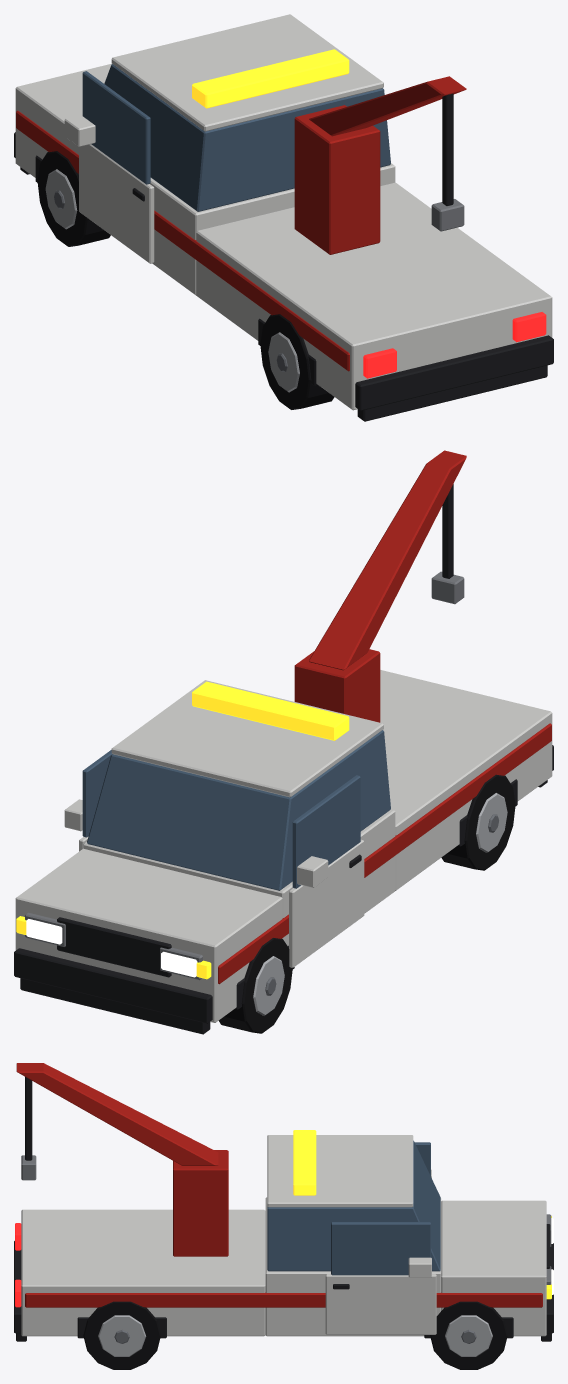
File: car_tow.glb
The picture shows the model from 3 angles, top to bottom: view 1: azimuth 30°, elevation 25°; view 2: azimuth 150°, elevation 25°; view 3: azimuth 270°, elevation 25°; orthographic projection. The views are drawn at different scales.
Parts seen in each view (by area): view 1: car_body, car_door_FL; view 2: car_body, car_door_FL, car_door_FR; view 3: car_body, car_door_FR.
Boxes of the visible parts, x1,y1,x2,y2 form: car_body: [14, 14, 553, 421]; car_door_FL: [64, 71, 154, 263]; car_body: [14, 450, 553, 1034]; car_door_FL: [289, 775, 364, 967]; car_door_FR: [64, 750, 112, 851]; car_body: [14, 1063, 553, 1369]; car_door_FR: [325, 1222, 436, 1334].
Bounding box in the file's own units: 2.43 × 3.15 × 5.84.
